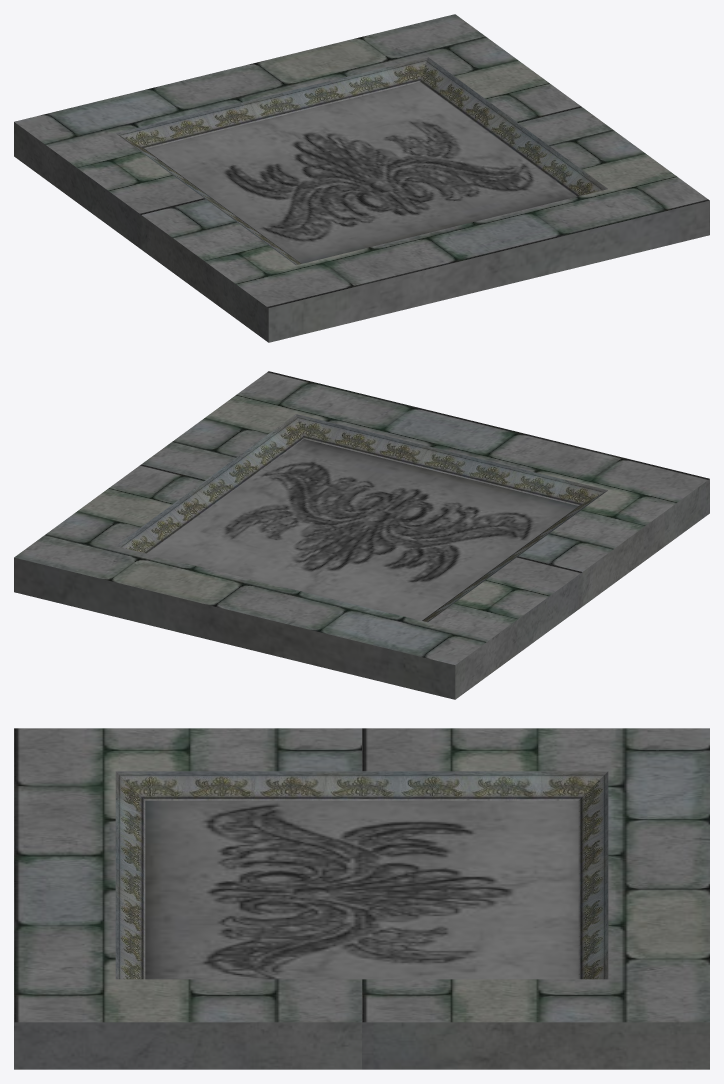
Rendered from flat_ceiling_large_02.glb.
3 views of the same model, one above another, from view 1: azimuth 30°, elevation 25°; view 2: azimuth 150°, elevation 25°; view 3: azimuth 270°, elevation 25° (orthographic). The views are drawn at different scales.
Visible parts, largest first — view 1: flat_ceiling_large_02; view 2: flat_ceiling_large_02; view 3: flat_ceiling_large_02.
Boxes of the visible parts, bbox=[...] form: flat_ceiling_large_02: bbox=[14, 14, 709, 342]; flat_ceiling_large_02: bbox=[14, 371, 709, 699]; flat_ceiling_large_02: bbox=[14, 728, 709, 1069].
Size of the model in its own units: 4 by 0.3 by 4.
1 material, 1 textured.
